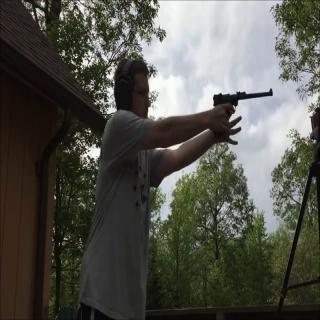gun: (208, 77, 280, 141)
